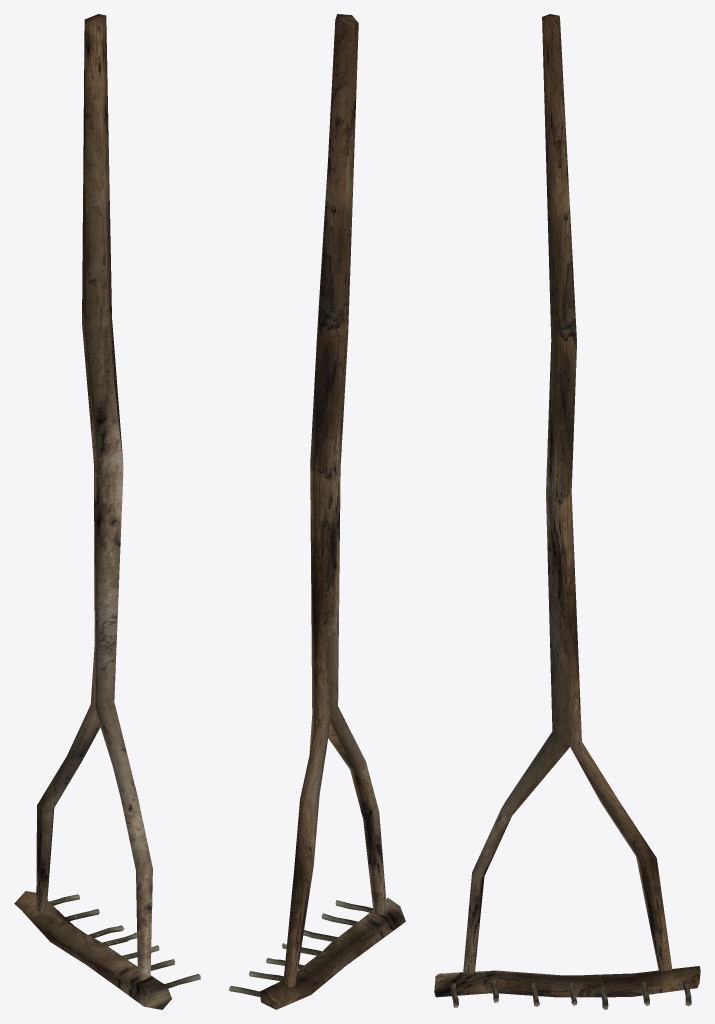
Rendered from grabie.fbx.
The picture shows the model from 3 angles, left to right: view 1: azimuth 30°, elevation 25°; view 2: azimuth 150°, elevation 25°; view 3: azimuth 270°, elevation 25°; orthographic projection. The views are drawn at different scales.
Parts seen in each view (by area): view 1: kij_002; view 2: kij_002; view 3: kij_002.
Boxes of the visible parts, <box> form: kij_002: <box>14,14,200,1009</box>; kij_002: <box>229,14,405,1009</box>; kij_002: <box>434,14,700,1009</box>.
Size of the model in its own units: 0.6894 by 9.11 by 2.25.
